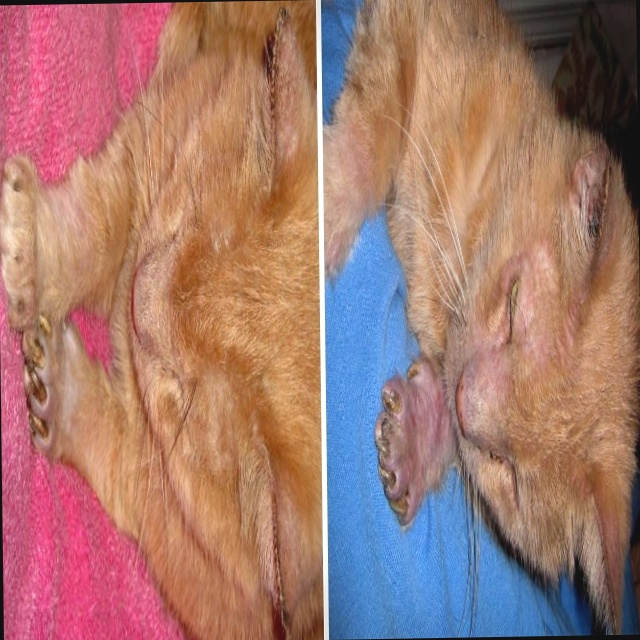ringworm: (403, 379, 441, 508), (522, 253, 557, 375)
